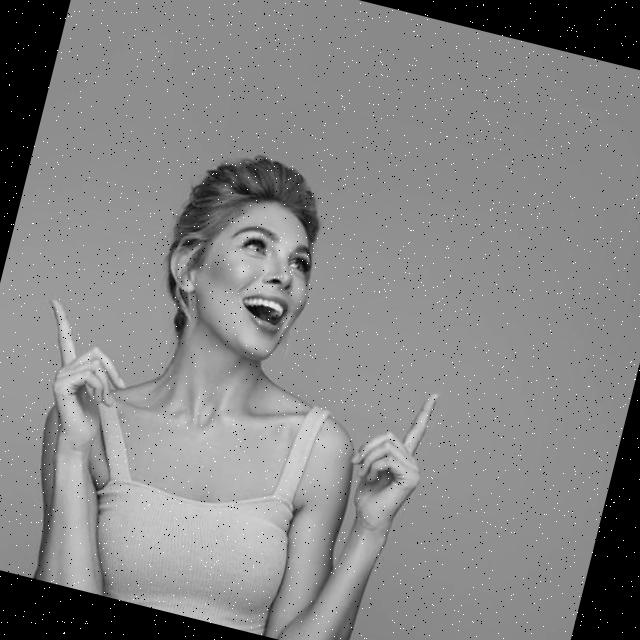Surprised: (181, 189, 328, 369)
